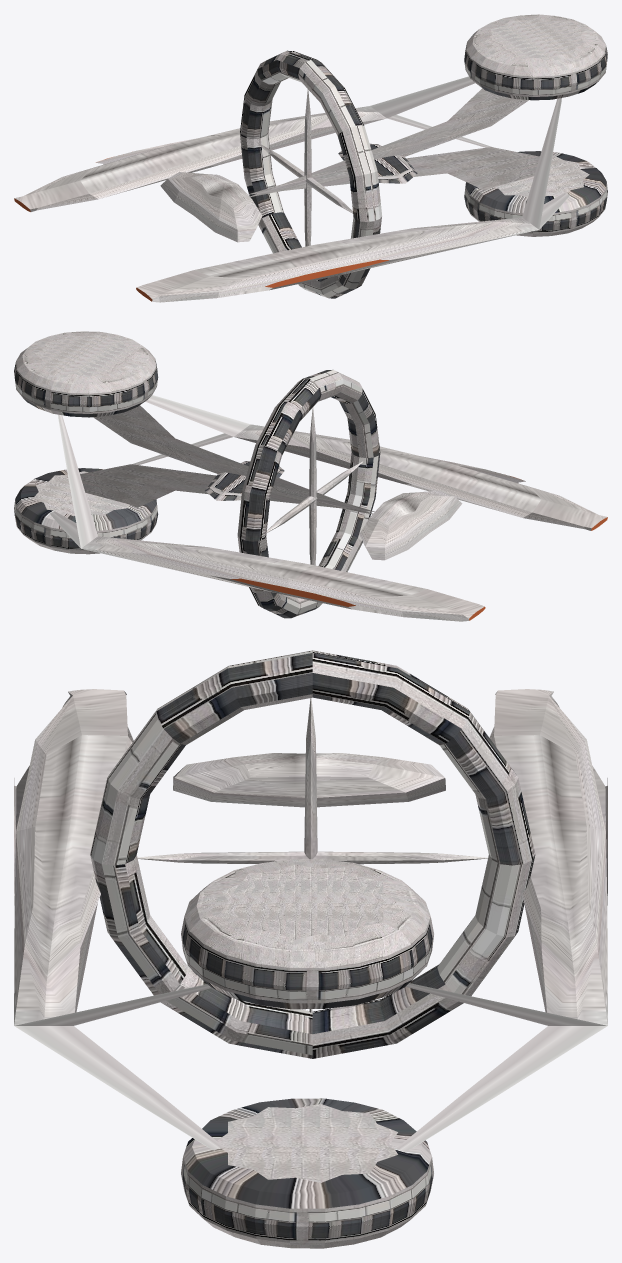
File: voyageStars.glb
The picture shows the model from 3 angles, top to bottom: view 1: azimuth 30°, elevation 25°; view 2: azimuth 150°, elevation 25°; view 3: azimuth 270°, elevation 25°; orthographic projection. The views are drawn at different scales.
Parts seen in each view (by area): view 1: Cylinder; view 2: Cylinder; view 3: Cylinder.
Part boxes in pixels (left/top/right/bottom): Cylinder: left=14, top=14, right=607, bottom=302; Cylinder: left=14, top=331, right=607, bottom=621; Cylinder: left=14, top=650, right=607, bottom=1248.
Bounding box in the file's own units: 19.94 × 8.54 × 11.39.
Materials: 3 (2 with a texture image).
